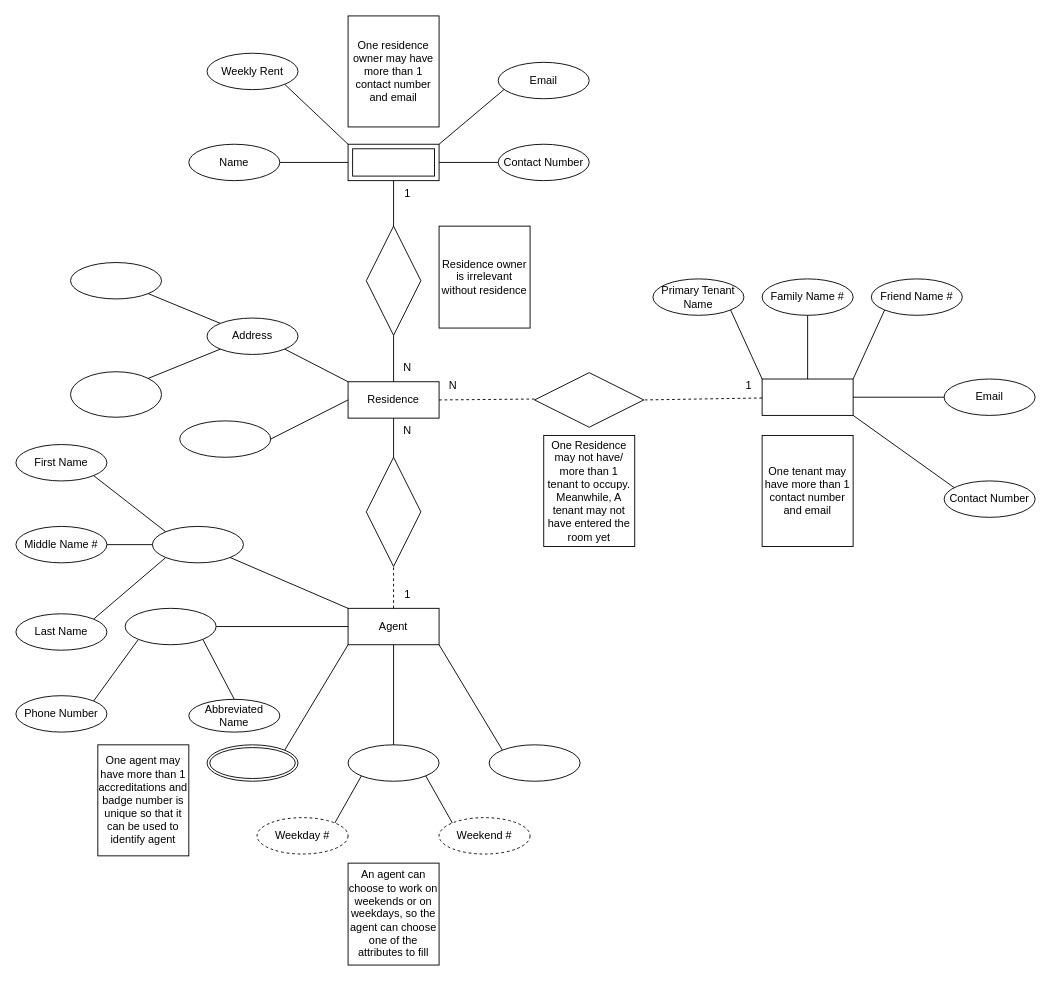
Image size: 1051x981. Some labels were removed from this diagram. Here are the shapes that lost their labels. From the top down, the centre of each, then its label:
[393,162]: Owner
[116,280]: Postcode
[393,280]: owns
[116,394]: Suburb
[589,399]: occupies
[807,396]: Tenant
[225,438]: Type
[393,511]: manages
[197,544]: Full Name
[170,626]: Badge Number
[252,762]: Accreditations
[393,762]: Shift Preference
[534,762]: Designated Parking Space
